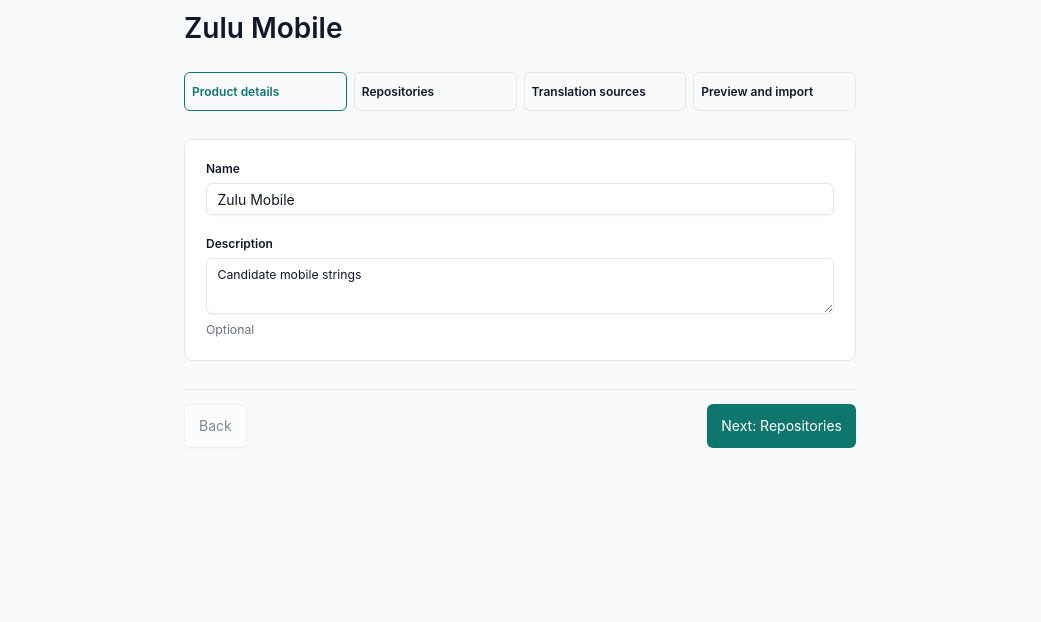
administrator product configuration tracer › embeds the real preview in one combined final setup step
What coordinates should you click on to do the following:
click the button "Preview and import"
I would click on:
 (775, 92)
Its box is [693,72,856,111].
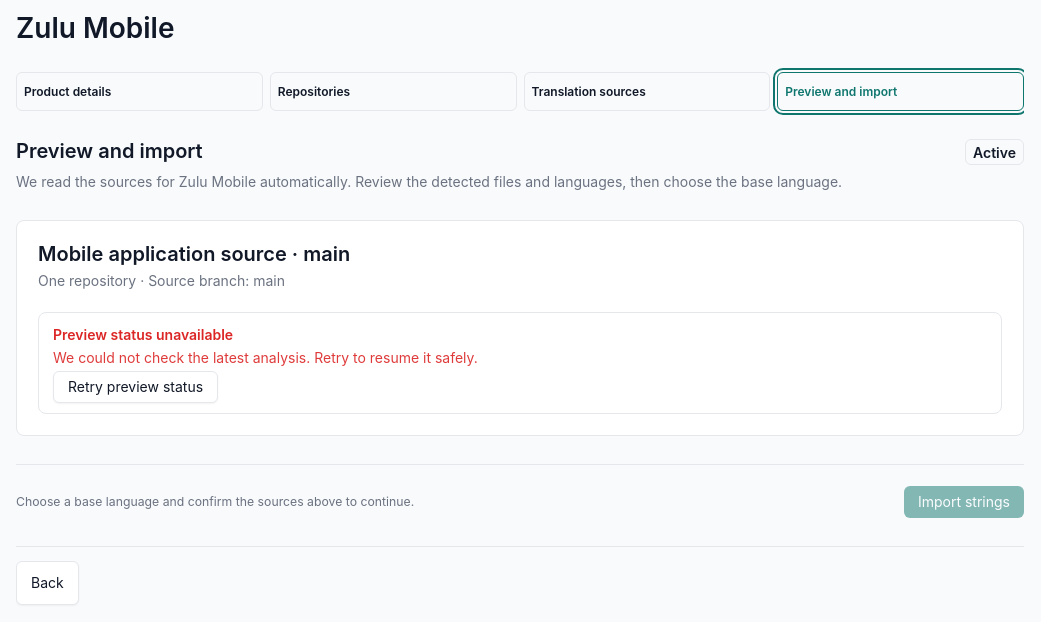
Result: the heading "Preview and import" is shown at [16,139,203,163]
